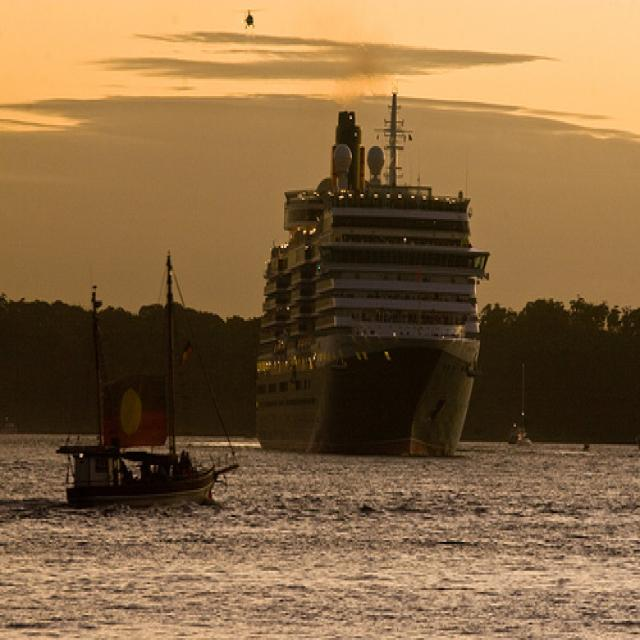Boat: (252, 99, 493, 507), (30, 237, 244, 589), (506, 407, 544, 458)
